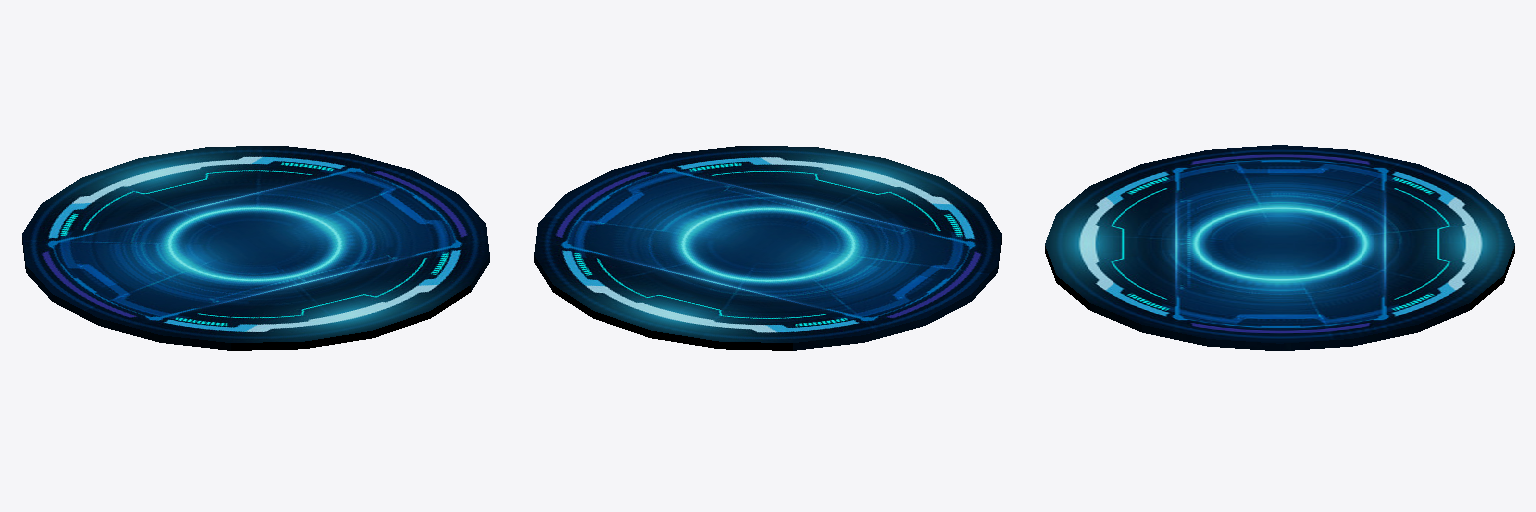
3 renders of one model, left to right at view 1: azimuth 30°, elevation 25°; view 2: azimuth 150°, elevation 25°; view 3: azimuth 270°, elevation 25°, orthographic.
Parts seen in each view (by area): view 1: pCylinder1; view 2: pCylinder1; view 3: pCylinder1.
Boxes of the visible parts, x1,y1,x2,y2 form: pCylinder1: [22, 146, 489, 350]; pCylinder1: [534, 146, 1001, 350]; pCylinder1: [1045, 145, 1514, 350].
Size of the model in its own units: 10.99 by 0.6 by 10.99.
1 materials, 1 textured.